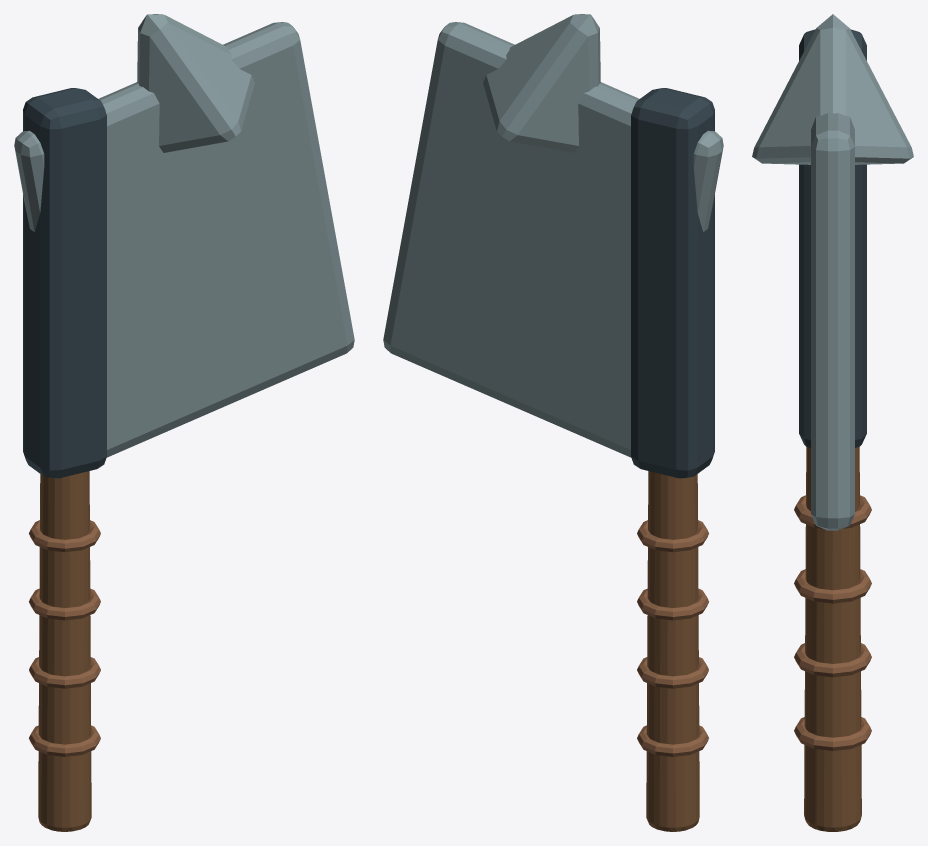
Rendered from weapon_cleaver.glb.
The picture shows the model from 3 angles, left to right: view 1: azimuth 30°, elevation 25°; view 2: azimuth 150°, elevation 25°; view 3: azimuth 270°, elevation 25°; orthographic projection. The views are drawn at different scales.
Parts seen in each view (by area): view 1: WideCleaverBlade, BlackSpine, WrappedHaft, GripBand; view 2: WideCleaverBlade, BlackSpine, WrappedHaft, GripBand; view 3: WideCleaverBlade, WrappedHaft, BlackSpine, GripBand.
Part boxes in pixels (x1=…): WideCleaverBlade: x1=14, y1=14, x2=354, y2=457; BlackSpine: x1=23, y1=88, x2=106, y2=478; WrappedHaft: x1=38, y1=471, x2=91, y2=831; GripBand: x1=29, y1=520, x2=100, y2=756; WideCleaverBlade: x1=383, y1=14, x2=723, y2=457; BlackSpine: x1=631, y1=88, x2=714, y2=478; WrappedHaft: x1=646, y1=471, x2=699, y2=831; GripBand: x1=637, y1=520, x2=708, y2=756; WideCleaverBlade: x1=752, y1=14, x2=913, y2=530; WrappedHaft: x1=804, y1=447, x2=861, y2=831; BlackSpine: x1=799, y1=29, x2=866, y2=447; GripBand: x1=794, y1=495, x2=871, y2=750.
Size of the model in its own units: 0.6119 by 1.39 by 0.2389.
